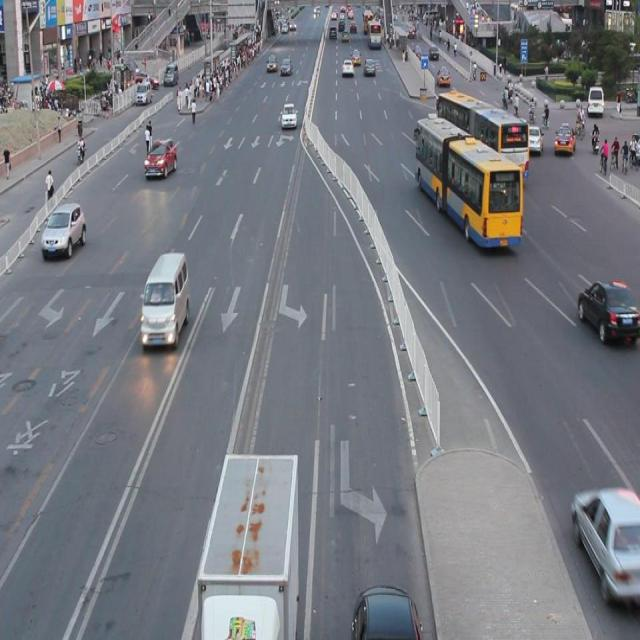bus: (196, 451, 299, 640)
car: (569, 485, 640, 602), (576, 277, 640, 343), (351, 582, 422, 640), (42, 202, 87, 255)
truck: (141, 252, 188, 345)
van: (415, 118, 522, 249)
